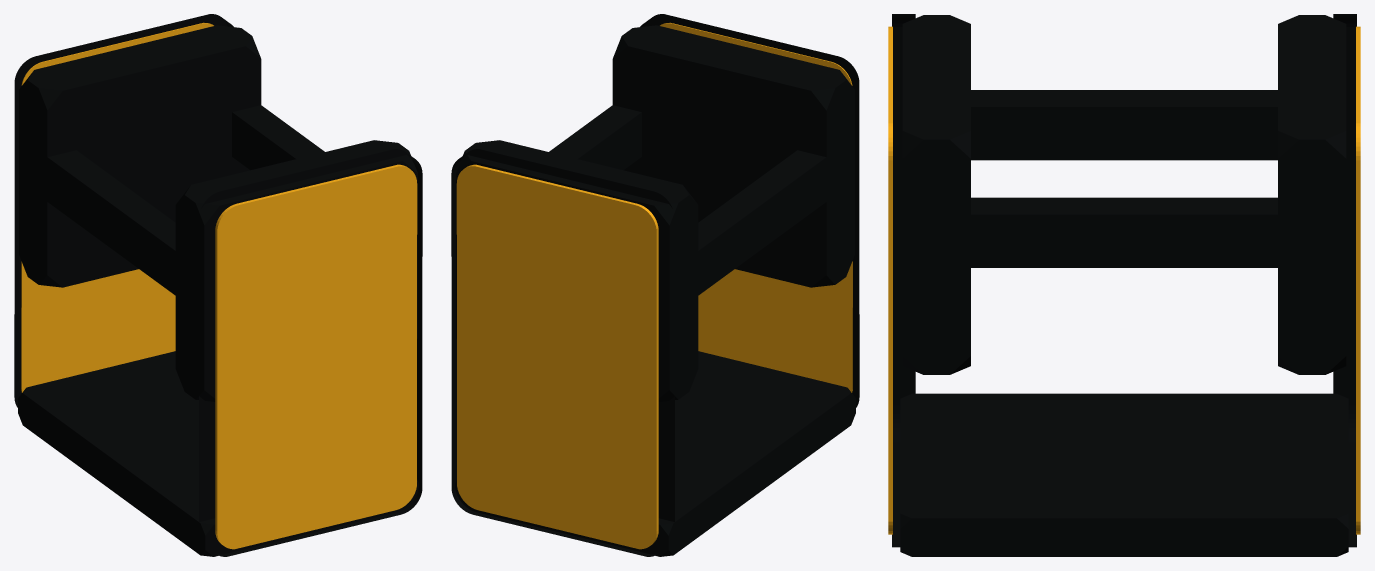
File: reel_housing.dae
3 views of the same model, side by side, from view 1: azimuth 30°, elevation 25°; view 2: azimuth 150°, elevation 25°; view 3: azimuth 270°, elevation 25° (orthographic). The views are drawn at different scales.
Visible parts, largest first — view 1: node0, node1; view 2: node0, node1; view 3: node0, node1.
Boxes of the visible parts, <box> form: node0: <box>14,14,422,556</box>; node1: <box>21,22,417,549</box>; node0: <box>451,14,859,556</box>; node1: <box>456,22,852,549</box>; node0: <box>892,14,1356,556</box>; node1: <box>888,26,1360,534</box>.
Bounding box in the file's own units: 0.25 × 0.4 × 0.4.
